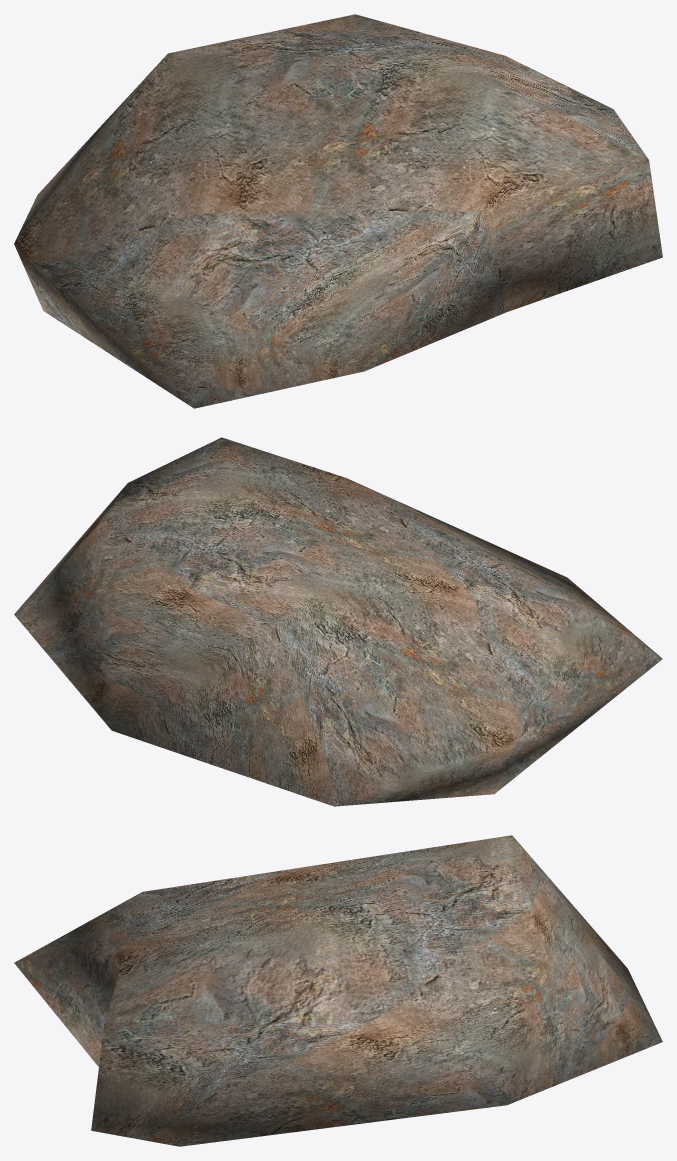
Rendered from rock_forestrock_lg_l2.fbx.
The picture shows the model from 3 angles, top to bottom: view 1: azimuth 30°, elevation 25°; view 2: azimuth 150°, elevation 25°; view 3: azimuth 270°, elevation 25°; orthographic projection. The views are drawn at different scales.
Parts seen in each view (by area): view 1: mesh_node; view 2: mesh_node; view 3: mesh_node.
Part boxes in pixels (<box>): mesh_node: <box>14,14,662,408</box>; mesh_node: <box>14,437,662,806</box>; mesh_node: <box>14,835,662,1146</box>.
Bounding box in the file's own units: 1.22 × 0.4532 × 1.27.
